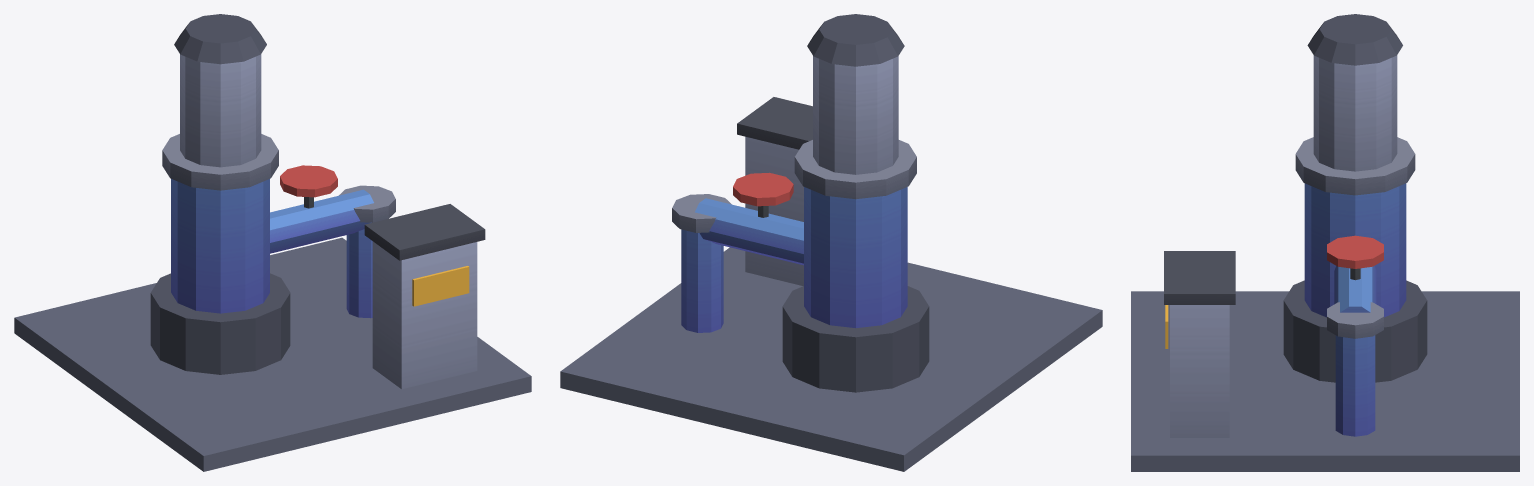
The model's file is water_pump.glb.
3 views of the same model, side by side, from view 1: azimuth 30°, elevation 25°; view 2: azimuth 150°, elevation 25°; view 3: azimuth 270°, elevation 25° (orthographic). The views are drawn at different scales.
Parts seen in each view (by area): view 1: water_pump; view 2: water_pump; view 3: water_pump.
Part boxes in pixels (x1,y1,x2,y2): water_pump: [14, 14, 531, 471]; water_pump: [560, 14, 1102, 471]; water_pump: [1131, 14, 1519, 471].
Size of the model in its own units: 1.3 by 1.26 by 1.3.
Materials: 1 (1 with a texture image).
